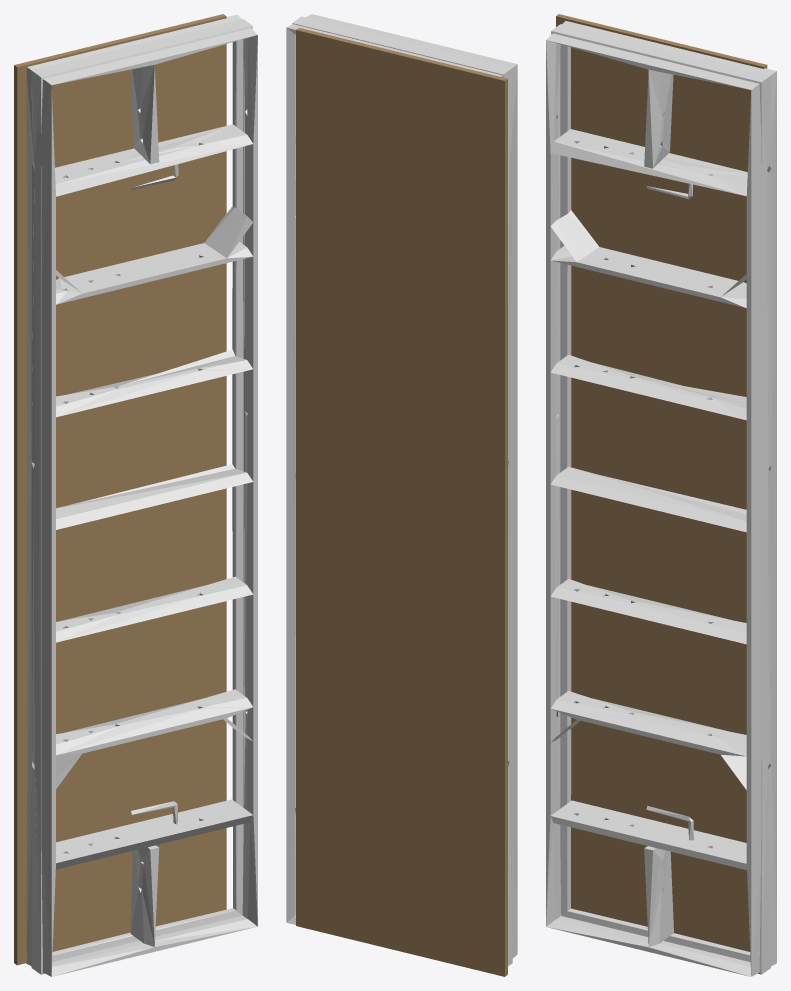
3 renders of one model, left to right at view 1: azimuth 30°, elevation 25°; view 2: azimuth 150°, elevation 25°; view 3: azimuth 330°, elevation 25°, orthographic.
Visible parts, largest first — view 1: 24604242; view 2: 24604242; view 3: 24604242.
Boxes of the visible parts, <box> form: 24604242: <box>14,14,257,976</box>; 24604242: <box>286,14,517,976</box>; 24604242: <box>546,14,776,976</box>.
Bounding box in the file's own units: 0.6218 × 2.4 × 0.122.
